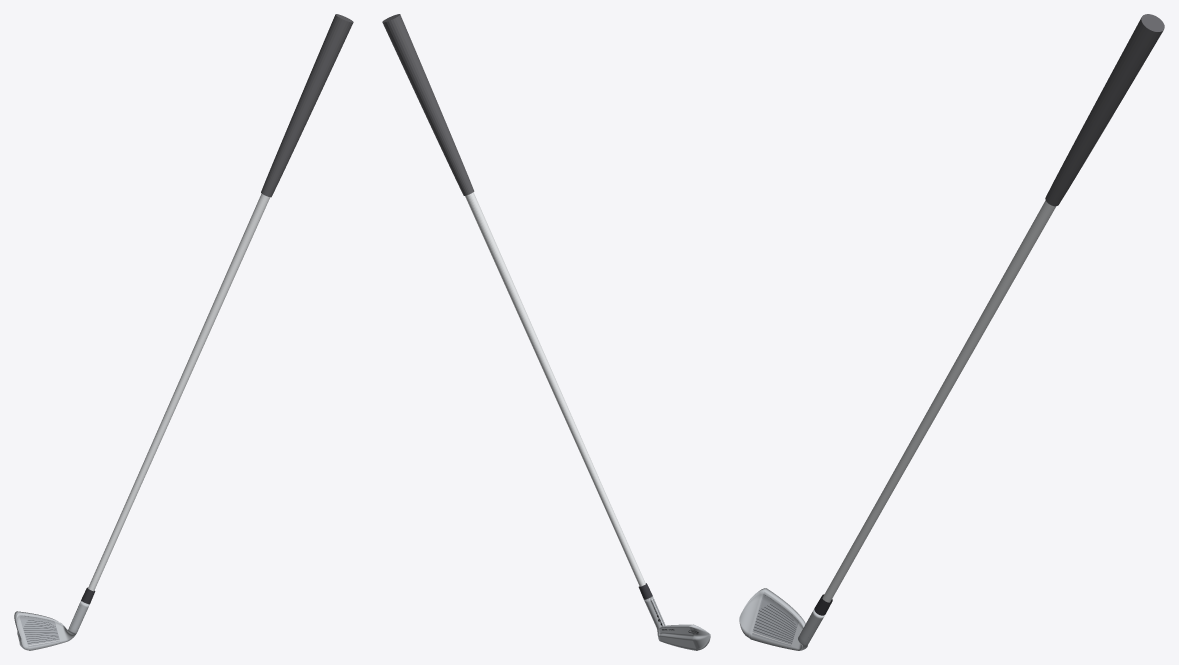
3 views of the same model, side by side, from view 1: azimuth 30°, elevation 25°; view 2: azimuth 150°, elevation 25°; view 3: azimuth 330°, elevation 25° (orthographic). The views are drawn at different scales.
Visible parts, largest first — view 1: Shaft_AR, Grip_AR, 301-mb; view 2: Shaft_AR, Grip_AR, 301-mb; view 3: Shaft_AR, Grip_AR, 301-mb.
Boxes of the visible parts, box(x1,y1,x2,y2) form: Shaft_AR: box(88, 193, 269, 591); Grip_AR: box(261, 14, 353, 197); 301-mb: box(14, 601, 89, 650); Shaft_AR: box(465, 192, 645, 586); Grip_AR: box(382, 14, 474, 195); 301-mb: box(644, 596, 710, 650); Shaft_AR: box(822, 200, 1055, 602); Grip_AR: box(1045, 14, 1164, 206); 301-mb: box(739, 588, 824, 650).
Size of the model in its own units: 0.5159 by 0.8393 by 0.0505.
Materials: 4 (1 with a texture image).
